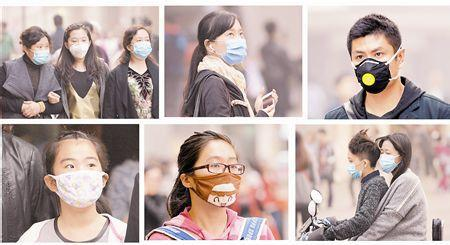OK: (52, 153, 108, 209), (187, 157, 241, 207), (354, 45, 402, 94), (213, 29, 249, 66), (25, 43, 51, 66), (378, 150, 403, 173), (69, 36, 91, 59), (349, 157, 369, 180), (133, 36, 152, 60)
